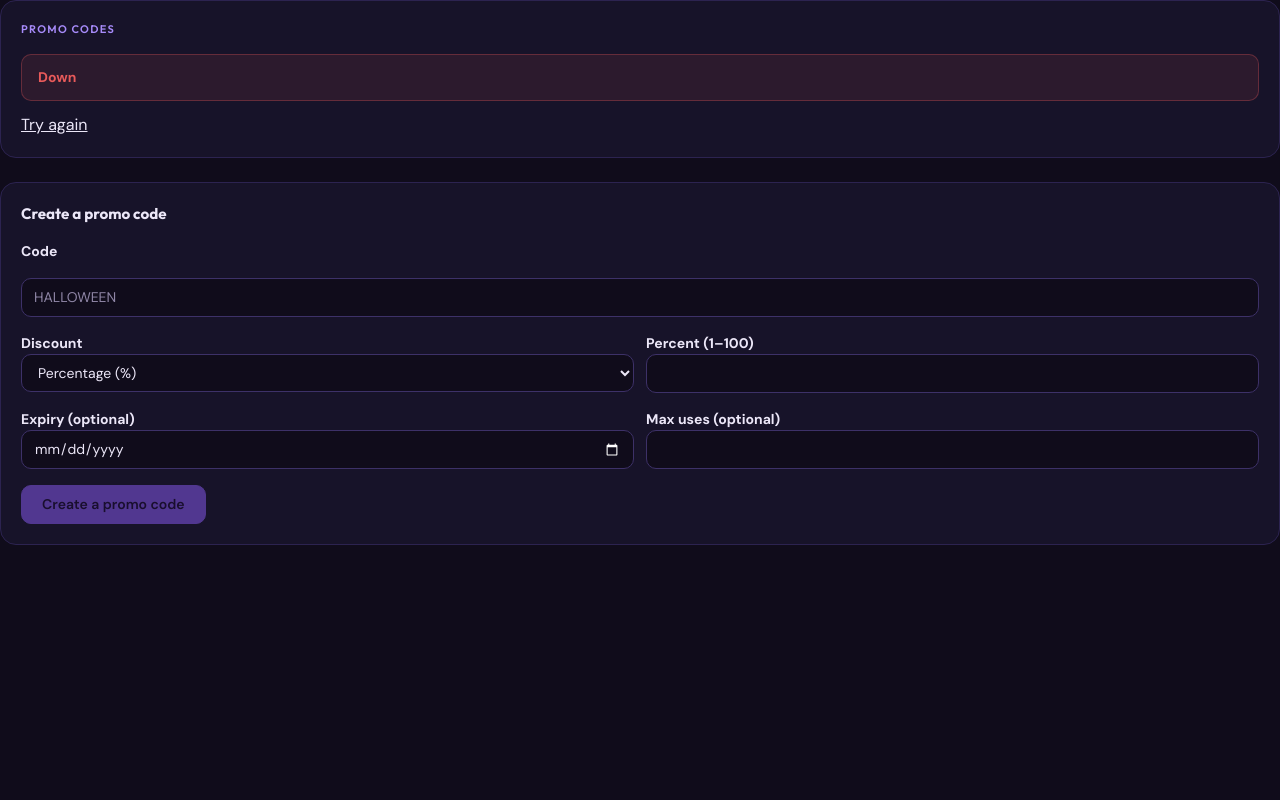
Test: AdminPromos › shows a load error and retries
This screenshot has width=1280, height=800.
expect the text "Down" is shown: met, box [21,54,1259,100]
Click the button "Try again": (54, 124) [21,112,88,136]
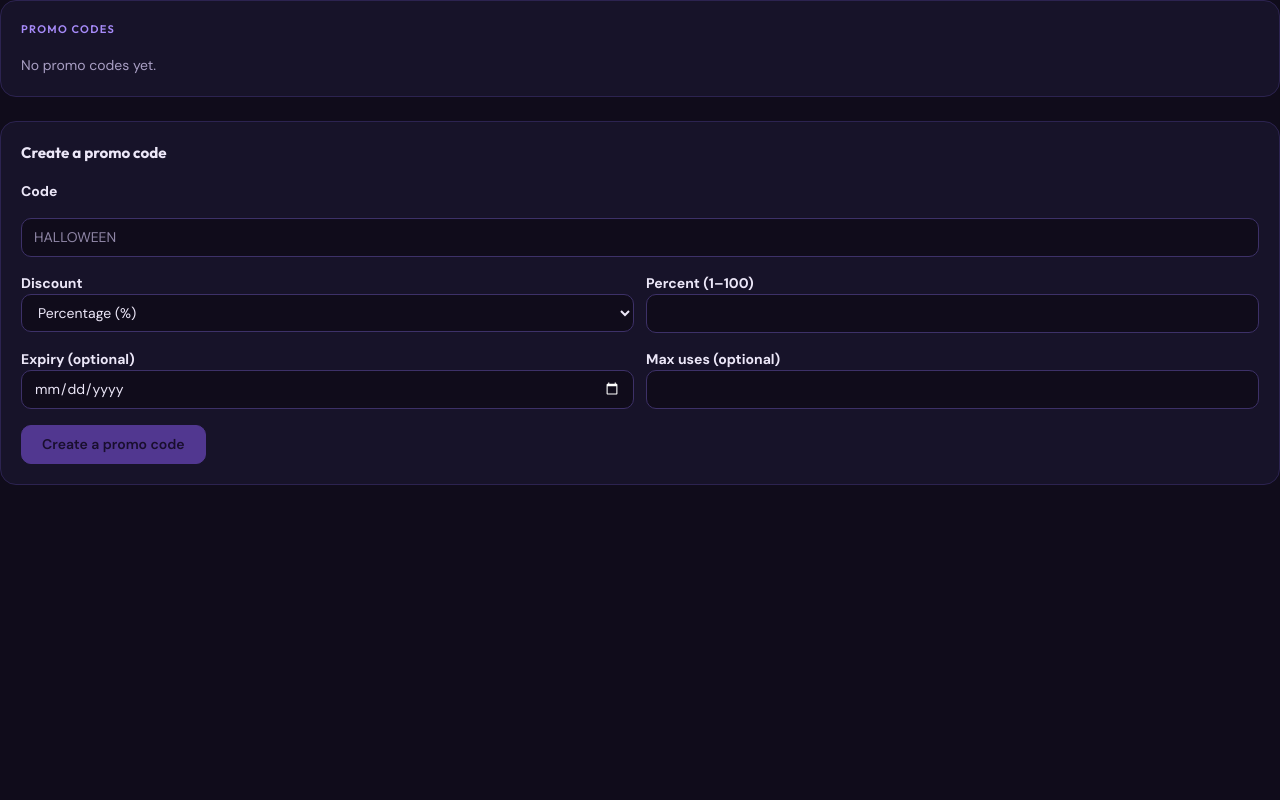
expect the text "No promo codes yet." is shown: met, box [21,56,156,74]
